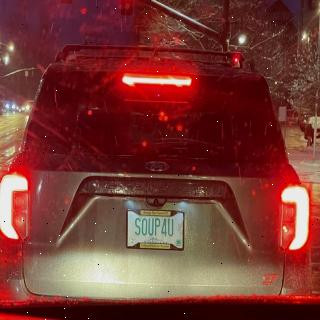license: (127, 209, 185, 253)
